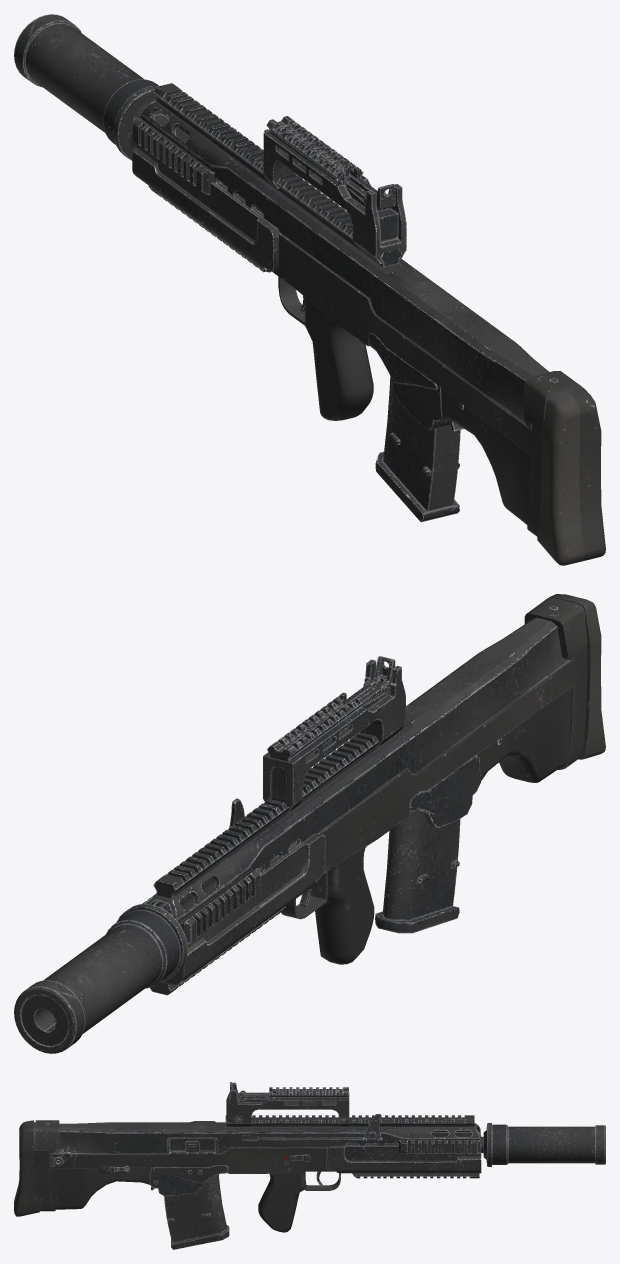
The model's file is Odin.glb.
3 renders of one model, top to bottom at view 1: azimuth 30°, elevation 25°; view 2: azimuth 150°, elevation 25°; view 3: azimuth 270°, elevation 25°, orthographic. The views are drawn at different scales.
Parts seen in each view (by area): view 1: Ash127_0; view 2: Ash127_0; view 3: Ash127_0.
Boxes of the visible parts, x1=… form: Ash127_0: x1=14, y1=14, x2=605, y2=565; Ash127_0: x1=14, y1=594, x2=605, y2=1053; Ash127_0: x1=14, y1=1082, x2=605, y2=1249.
Bounding box in the file's own units: 0.6373 × 2.55 × 8.52.
Materials: 1 (1 with a texture image).
